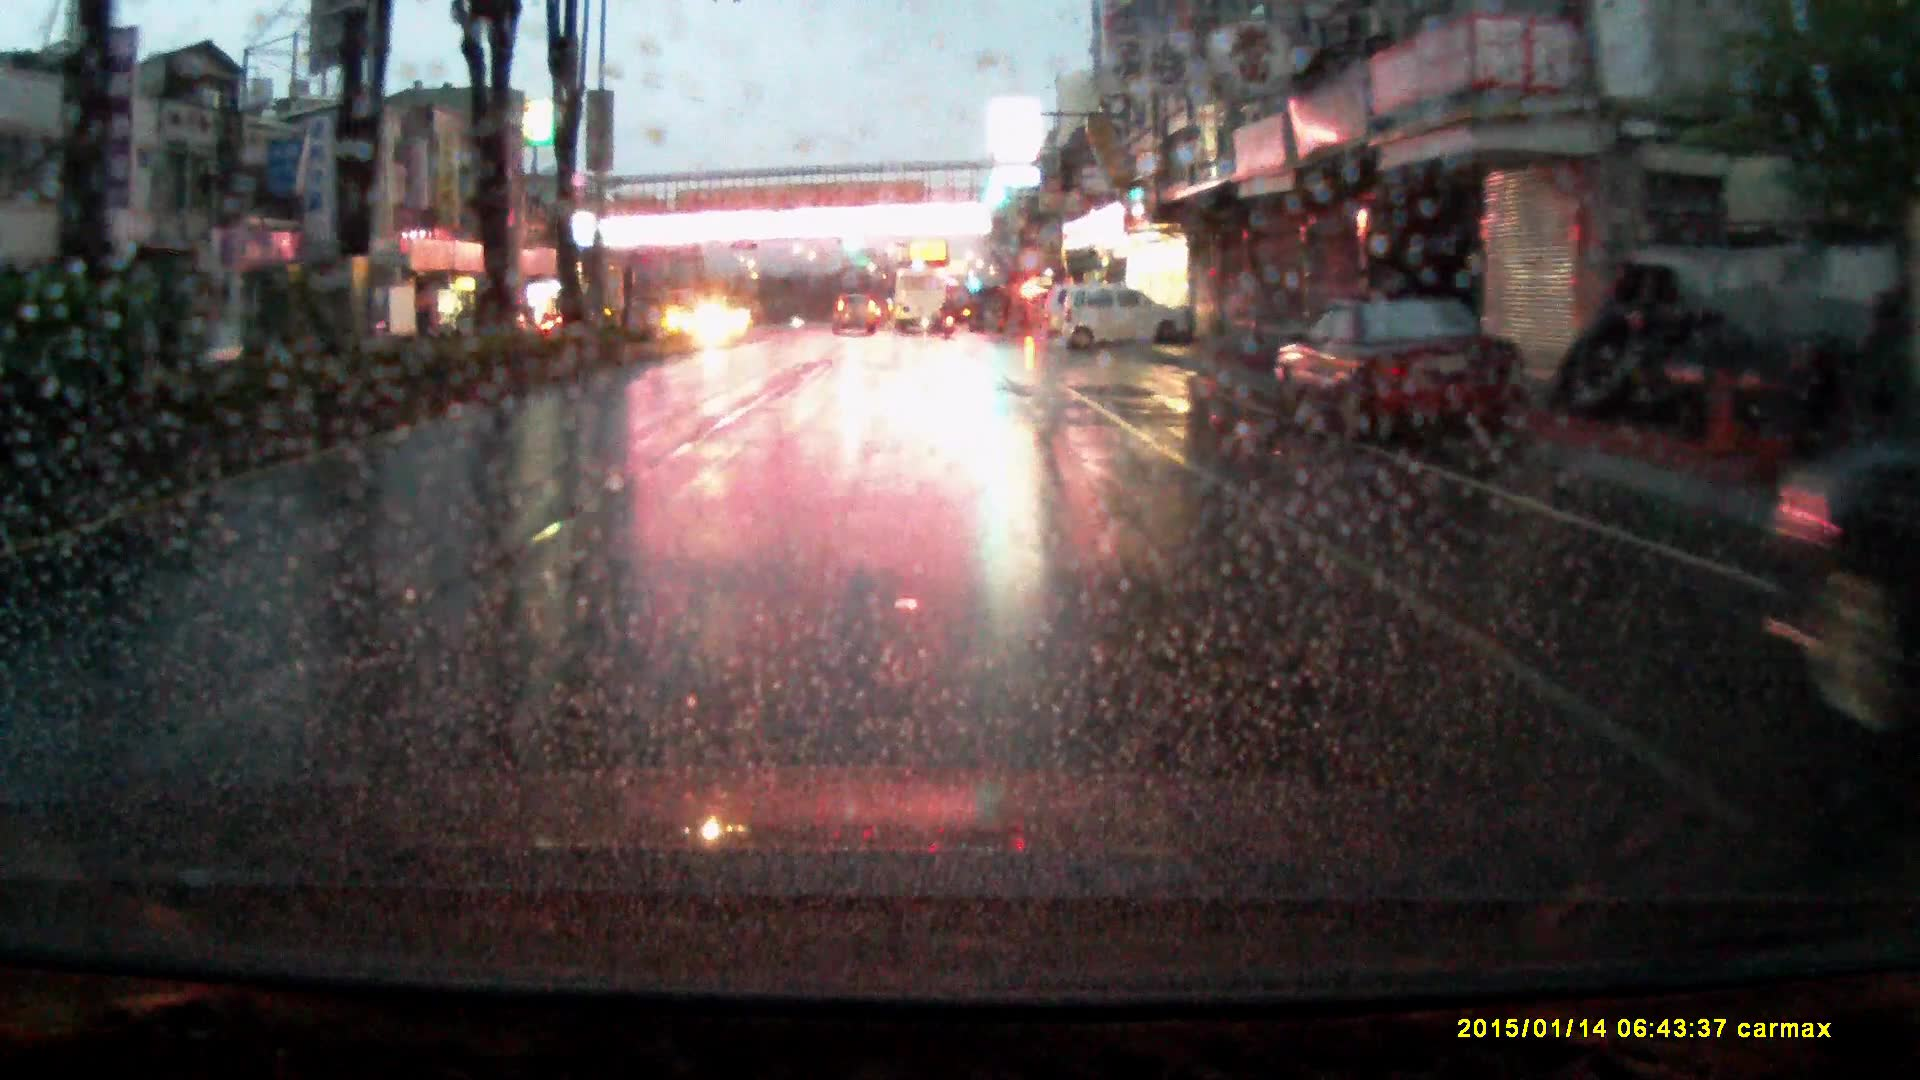vehicle: (1760, 429, 1920, 753), (1275, 301, 1527, 448), (1065, 281, 1192, 357), (894, 269, 949, 336), (1040, 286, 1089, 342), (376, 282, 417, 340), (833, 295, 880, 338)
